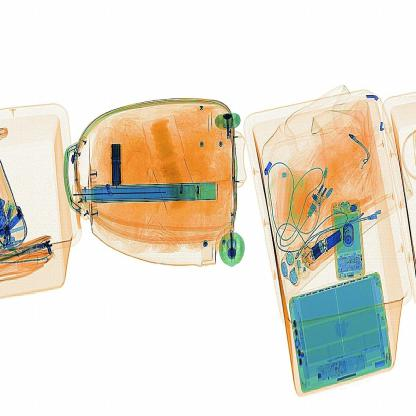scissors: (102, 133, 127, 208)
